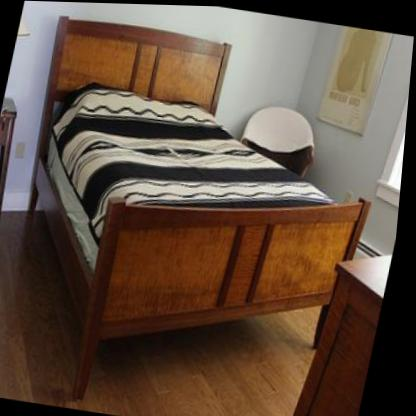Bed: (0, 10, 404, 416)
